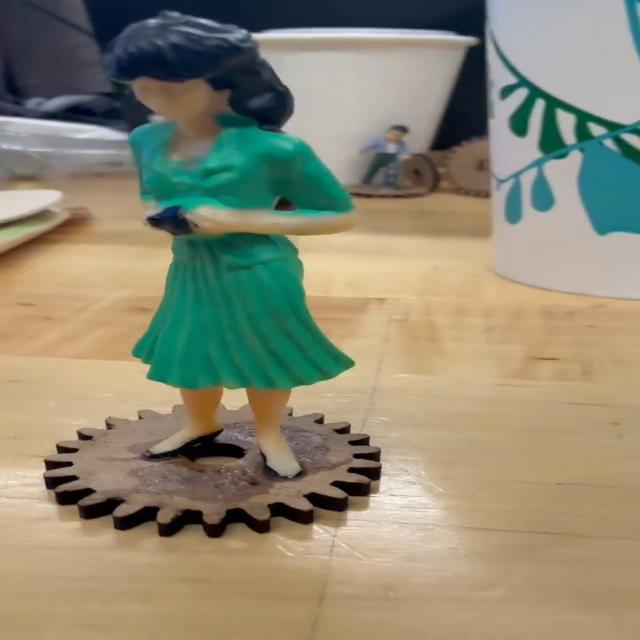Authorized: (92, 6, 361, 484)
